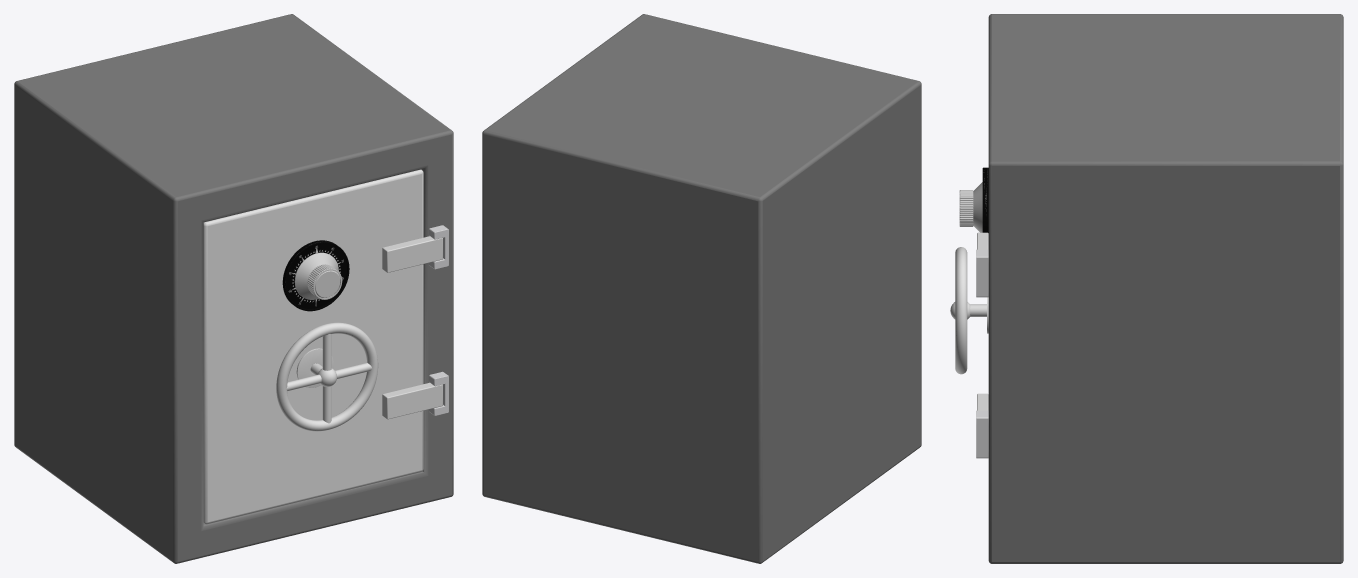
Rendered from safe.fbx.
3 renders of one model, left to right at view 1: azimuth 30°, elevation 25°; view 2: azimuth 150°, elevation 25°; view 3: azimuth 270°, elevation 25°, orthographic. The views are drawn at different scales.
Parts seen in each view (by area): view 1: Bank_Safe_Main, Bank_Safe_Door, Hand, Arms, Lock, Knob, Bank_Safe_Jt; view 2: Bank_Safe_Main; view 3: Bank_Safe_Main, Hand, Bank_Safe_Jt, Knob.
Part boxes in pixels (bbox=[...]): Bank_Safe_Main: bbox=[14, 14, 453, 563]; Bank_Safe_Door: bbox=[203, 169, 423, 524]; Hand: bbox=[276, 322, 378, 431]; Arms: bbox=[382, 236, 442, 419]; Lock: bbox=[282, 240, 349, 311]; Knob: bbox=[294, 248, 342, 299]; Bank_Safe_Jt: bbox=[429, 225, 448, 415]; Bank_Safe_Main: bbox=[482, 14, 921, 563]; Bank_Safe_Main: bbox=[988, 14, 1343, 563]; Hand: bbox=[950, 247, 988, 374]; Bank_Safe_Jt: bbox=[976, 249, 988, 458]; Knob: bbox=[959, 182, 982, 232].
Size of the model in its own units: 0.72 by 0.8999 by 0.7974.
Materials: 5 (1 with a texture image).
